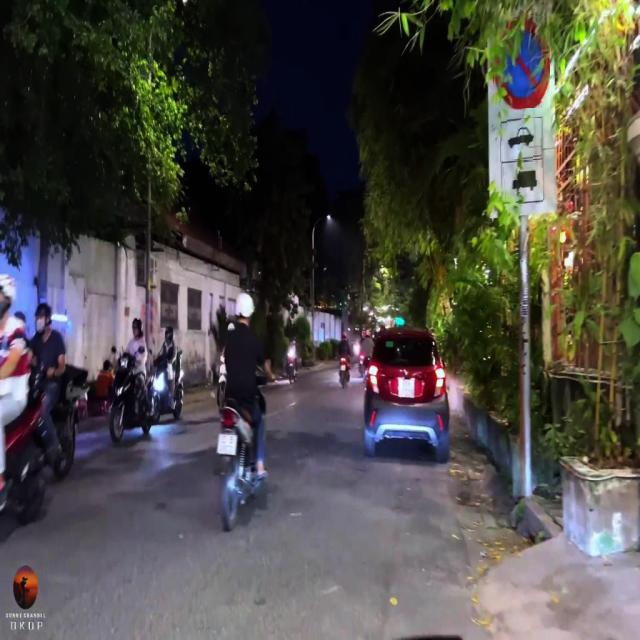cam_do_xe: (492, 12, 550, 108)
khac: (500, 118, 543, 162), (502, 160, 543, 204)
